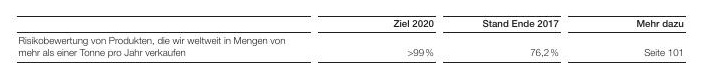table: (0, 0, 706, 78)
